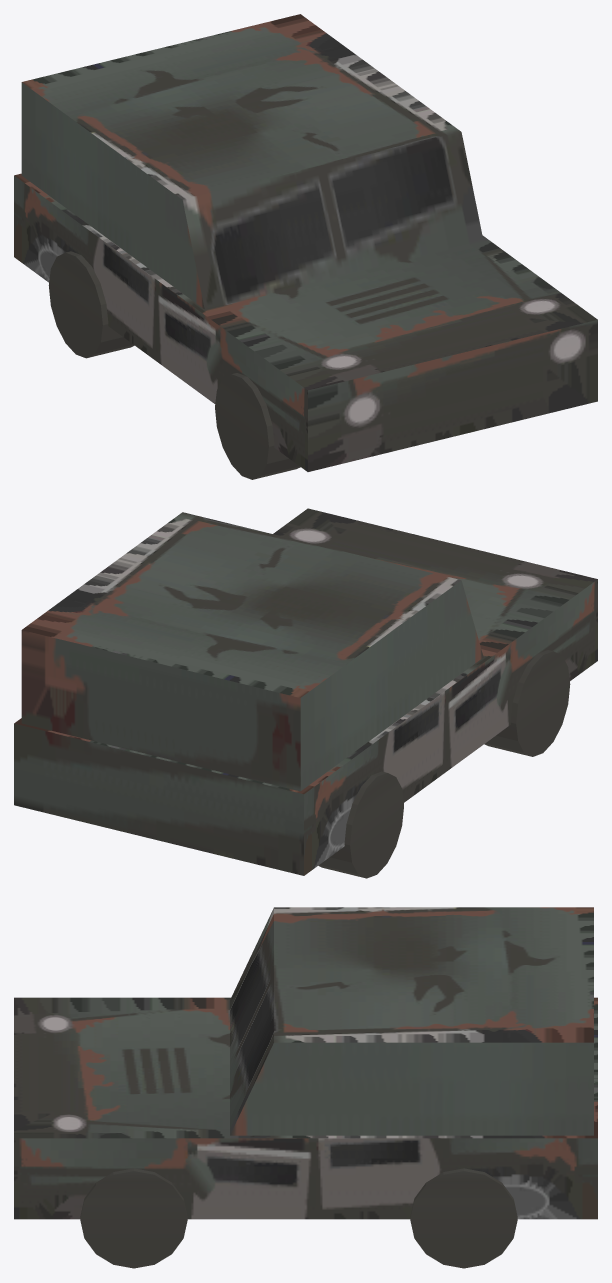
Rendered from Building_AncientRustedJeep.glb.
3 renders of one model, top to bottom at view 1: azimuth 30°, elevation 25°; view 2: azimuth 150°, elevation 25°; view 3: azimuth 270°, elevation 25°, orthographic.
Parts seen in each view (by area): view 1: AncientRustedJeep; view 2: AncientRustedJeep; view 3: AncientRustedJeep.
Boxes of the visible parts, bbox=[...] form: AncientRustedJeep: bbox=[14, 14, 597, 479]; AncientRustedJeep: bbox=[14, 508, 597, 878]; AncientRustedJeep: bbox=[14, 907, 597, 1268].
Size of the model in its own units: 2.7 by 1.9 by 4.56.
1 material, 1 textured.
